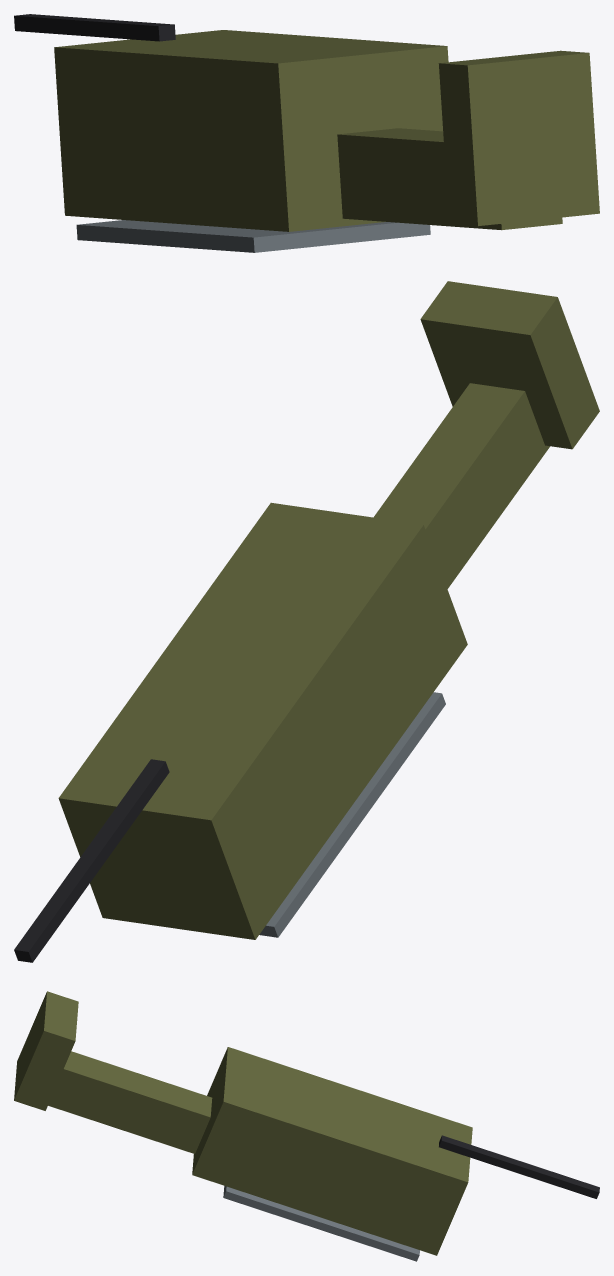
File: heli_crashed_lod1.glb
The picture shows the model from 3 angles, top to bottom: view 1: azimuth 30°, elevation 25°; view 2: azimuth 150°, elevation 25°; view 3: azimuth 270°, elevation 25°; orthographic projection. The views are drawn at different scales.
Parts seen in each view (by area): view 1: heli_crashed_lod1; view 2: heli_crashed_lod1; view 3: heli_crashed_lod1.
Part boxes in pixels (x1=…): heli_crashed_lod1: x1=14, y1=14, x2=599, y2=252; heli_crashed_lod1: x1=14, y1=281, x2=599, y2=962; heli_crashed_lod1: x1=14, y1=991, x2=599, y2=1261.
Size of the model in its own units: 2.84 by 6.23 by 13.95.
2 materials, 2 textured.
